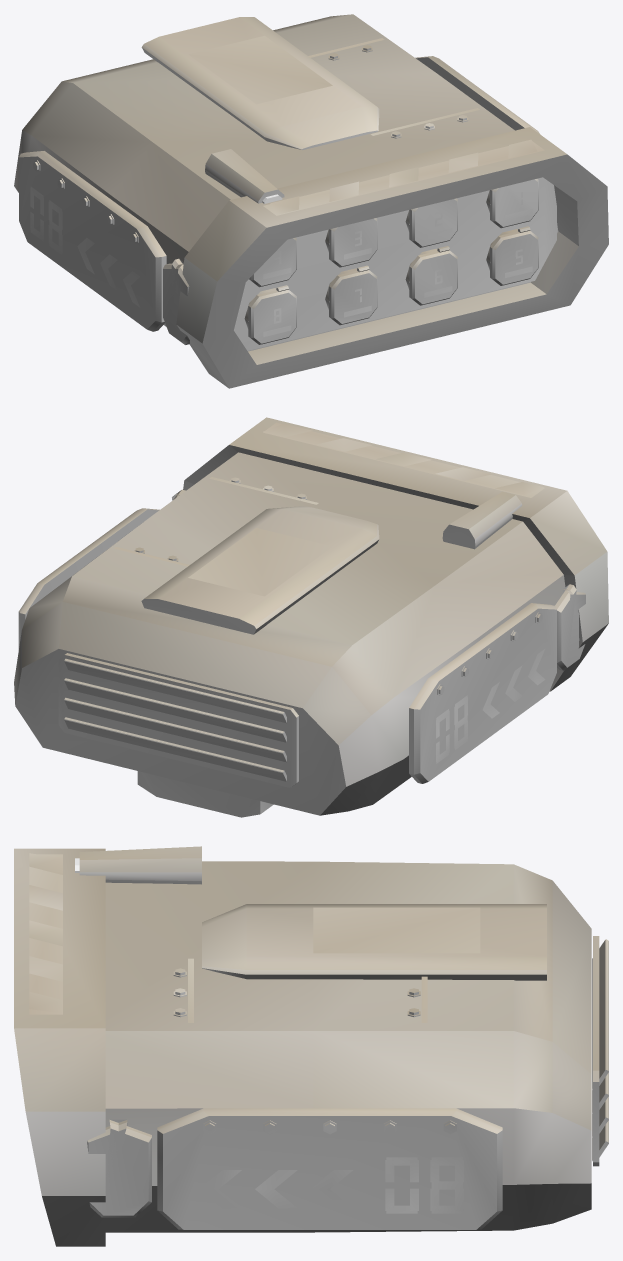
Rendered from missile-pod-m.glb.
3 views of the same model, one above another, from view 1: azimuth 30°, elevation 25°; view 2: azimuth 150°, elevation 25°; view 3: azimuth 270°, elevation 25° (orthographic). The views are drawn at different scales.
Visible parts, largest first — view 1: Body, Door_4, Door_7, Door_5, Door_6, Door_0, Door_2, Door_1, Door_3; view 2: Body; view 3: Body.
Part boxes in pixels (<box>): Body: <box>14,14,608,388</box>; Door_4: <box>490,226,538,285</box>; Door_7: <box>248,285,296,344</box>; Door_5: <box>409,246,457,305</box>; Door_6: <box>329,265,377,325</box>; Door_0: <box>490,178,538,228</box>; Door_2: <box>329,218,377,267</box>; Door_1: <box>409,198,457,247</box>; Door_3: <box>249,237,296,287</box>; Body: <box>14,417,608,817</box>; Body: <box>14,846,608,1246</box>.
Bounding box in the file's own units: 0.7652 × 0.3813 × 0.791.
